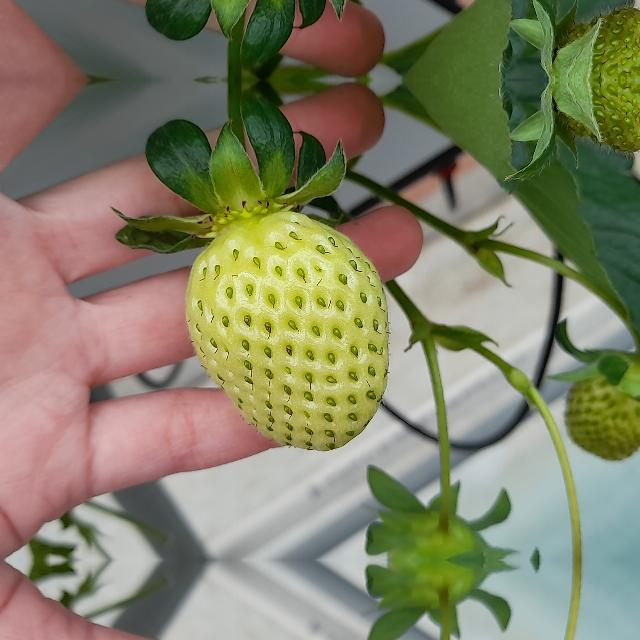Health_25: (184, 212, 388, 450), (557, 352, 639, 453)
